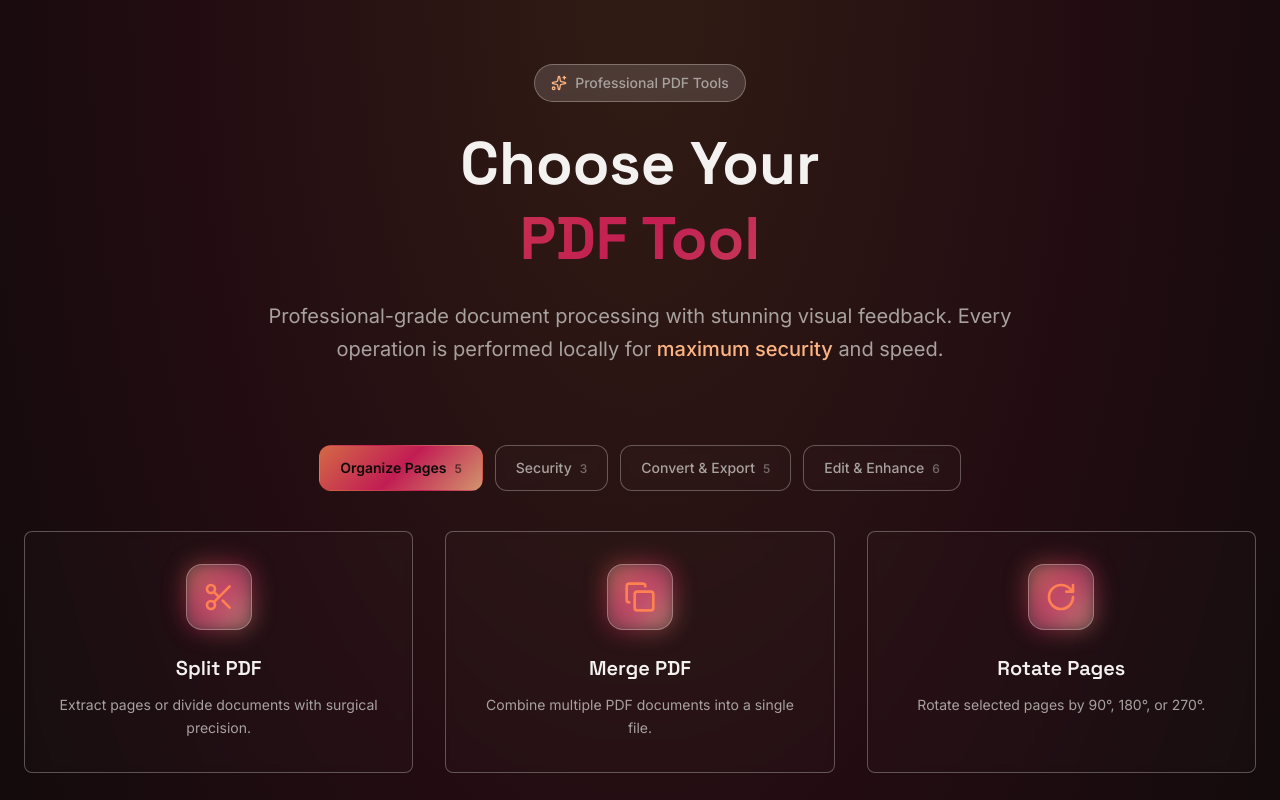
Test: GlassDashboard (T-11 / P2-23 / F-23) › only shows the active category's cards, and switching tabs changes which are shown
The width and height of the screenshot is (1280, 800).
Expected: the button "Split PDF" is shown, [24,531,413,772]
Expected: the button "Protect PDF" is not shown
Click the button "Security3". click: (552, 468)
box: [495,445,608,491]
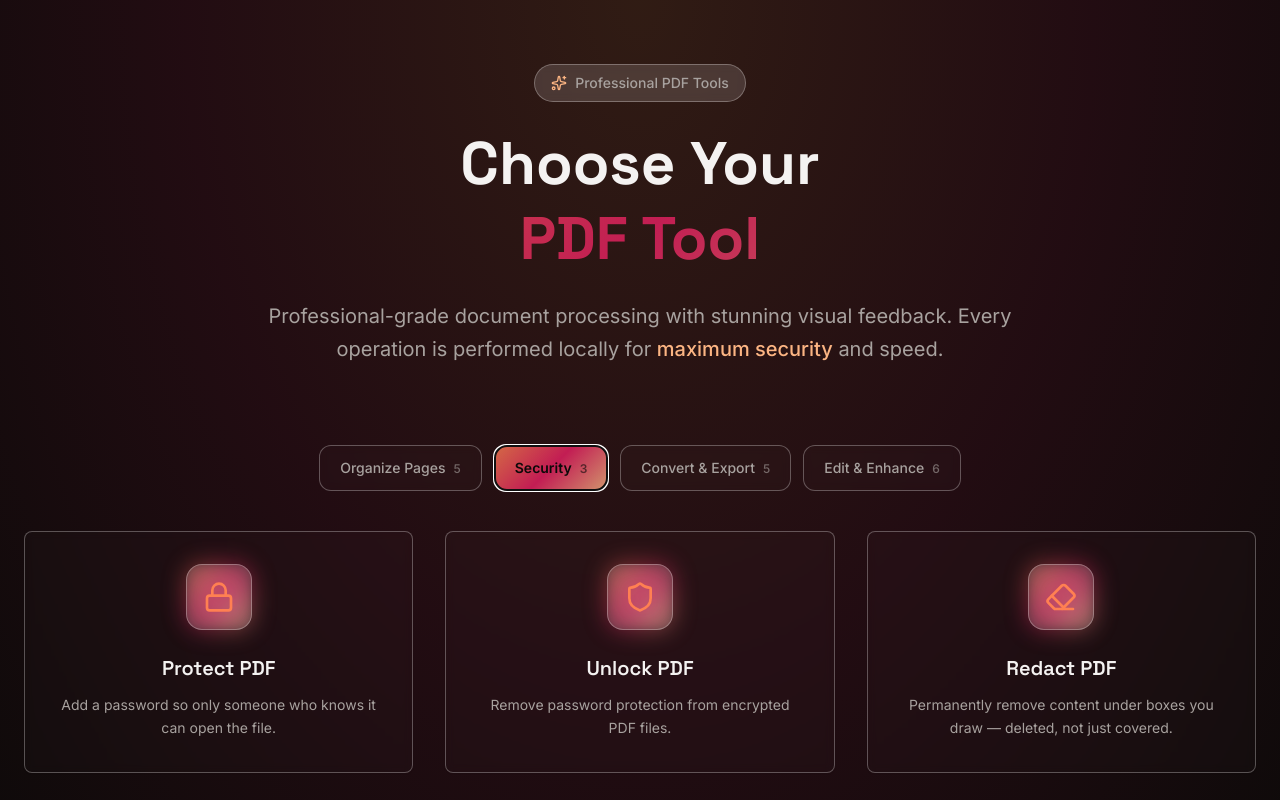
Expected: the button "Protect PDF" is shown, [24,531,413,772]
Expected: the button "Unlock PDF" is shown, [445,531,835,772]
Expected: the button "Redact PDF" is shown, [867,531,1256,772]
